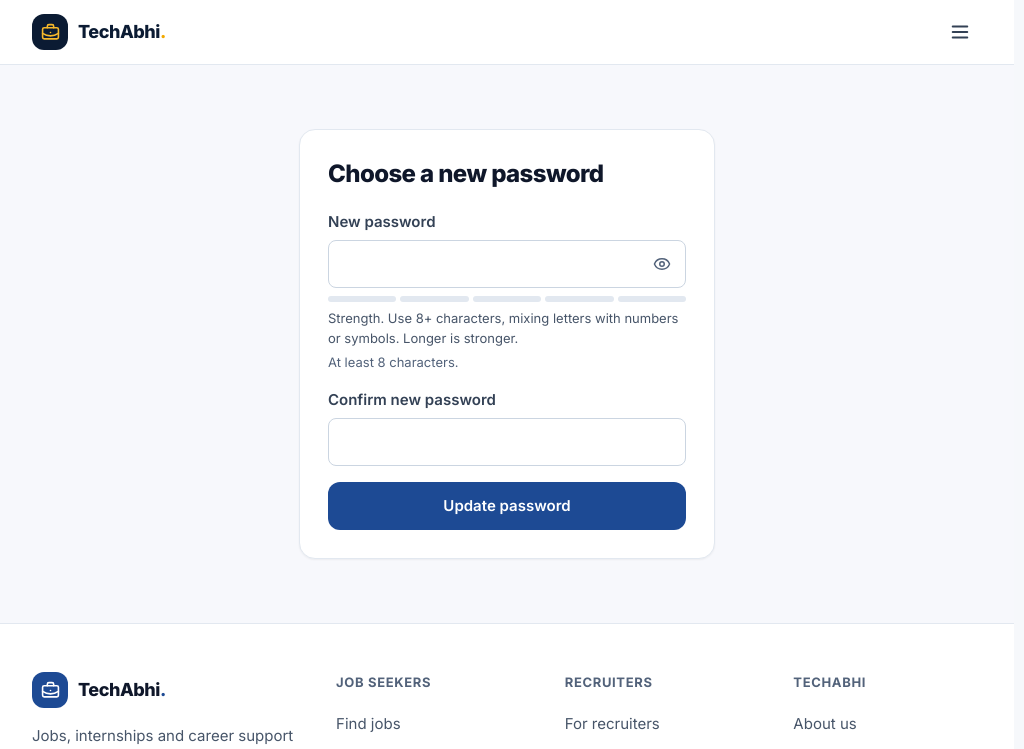
it: password reset screens › reset page validates, posts token + password, then offers login
The width and height of the screenshot is (1024, 749).
In the password field labelled "New password": (507, 264) left=328, top=240, right=686, bottom=288, type "newpassword1"
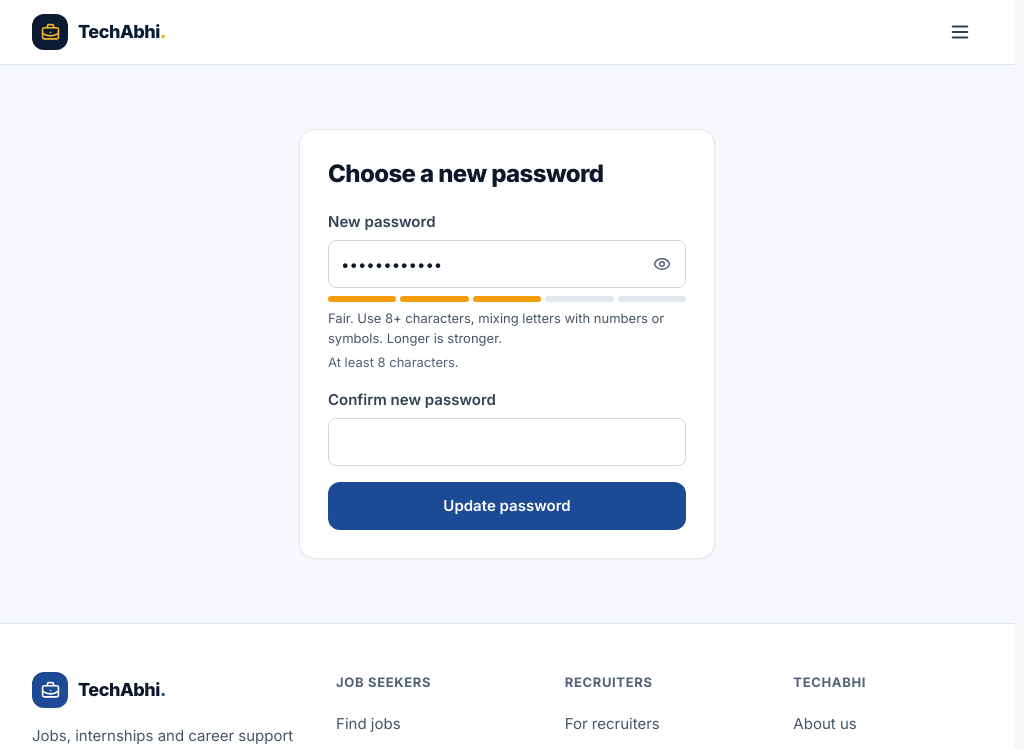
In the password field labelled "Confirm new password": (507, 442) left=328, top=418, right=686, bottom=466, type "different11"
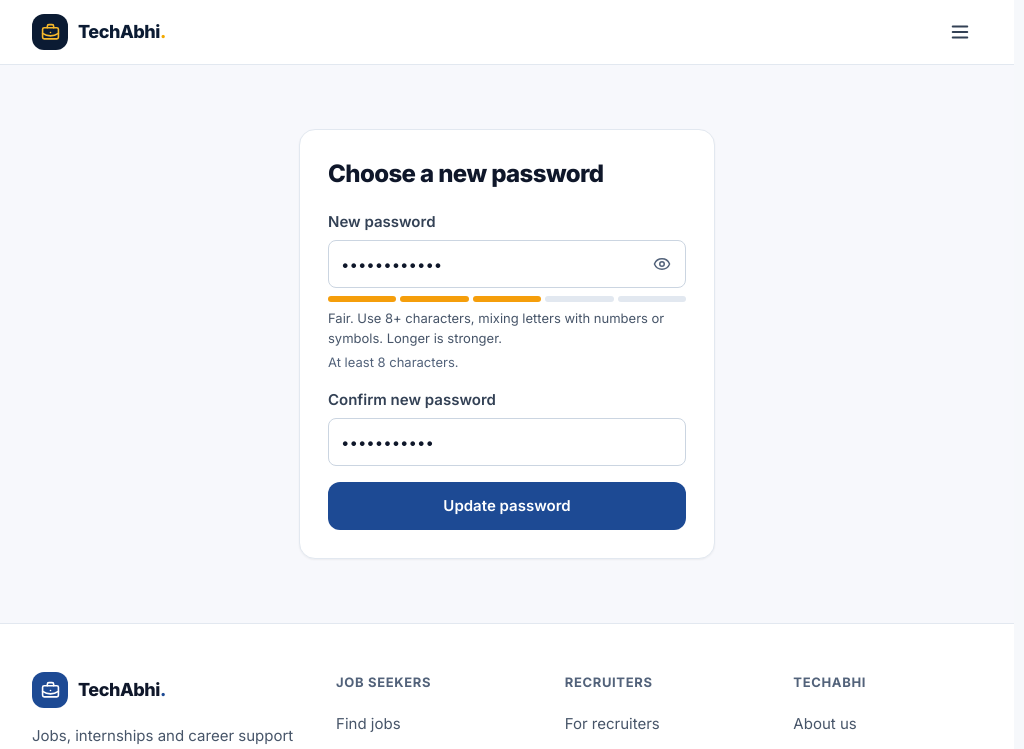
Click the button "Update password": (507, 506) left=328, top=482, right=686, bottom=530
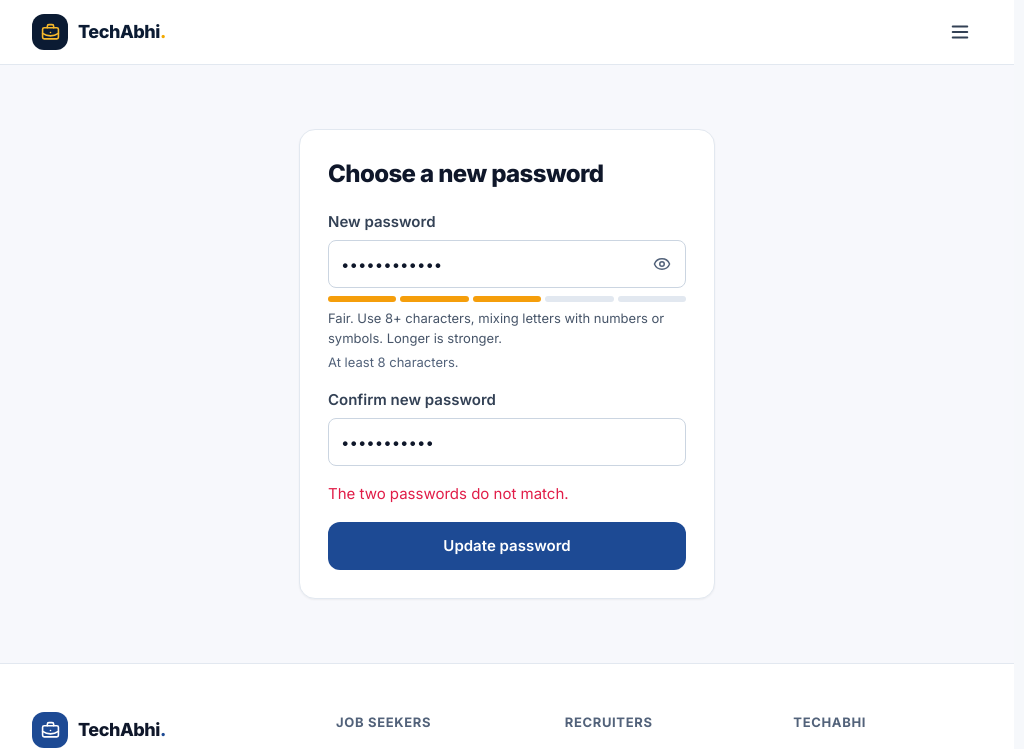
Expected: the text "do not match" is shown, left=328, top=484, right=569, bottom=503
In the password field labelled "Confirm new password": (507, 442) left=328, top=418, right=686, bottom=466, type "newpassword1"
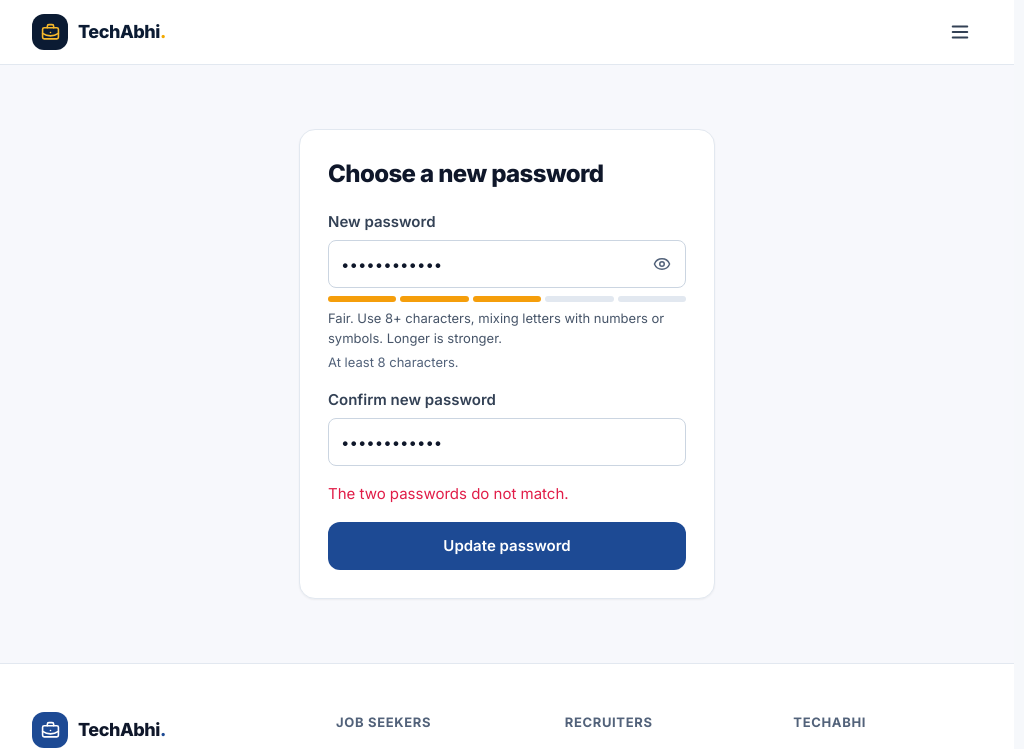
Click the button "Update password": (507, 546) left=328, top=522, right=686, bottom=570
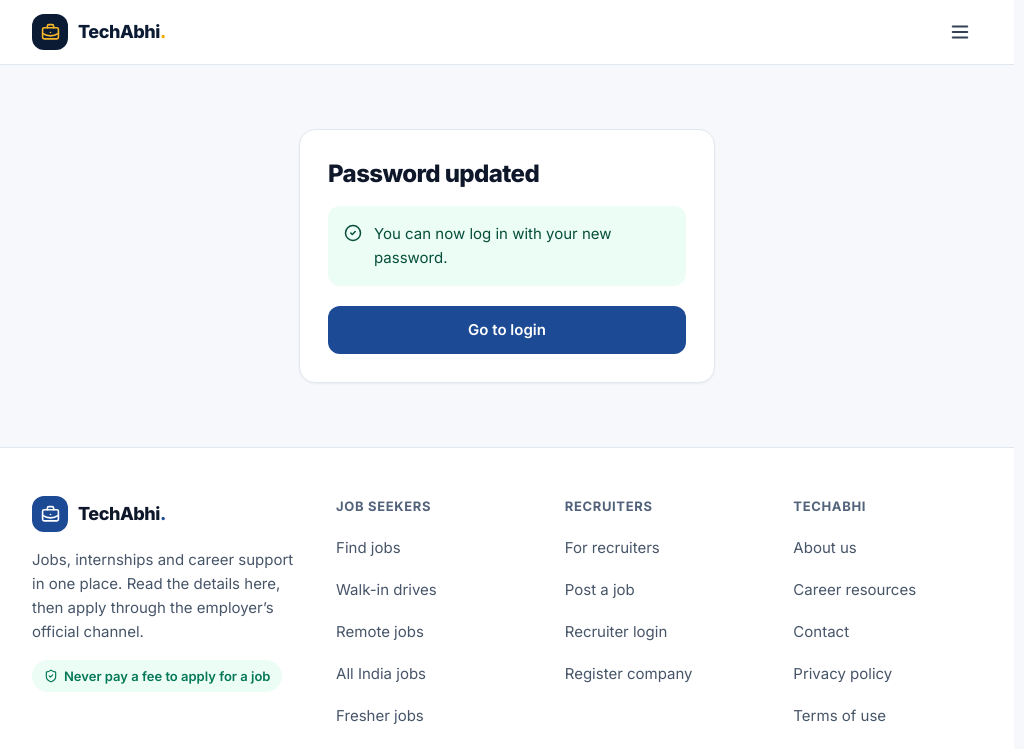
Expected: the text "You can now log in" is shown, left=374, top=224, right=612, bottom=267
